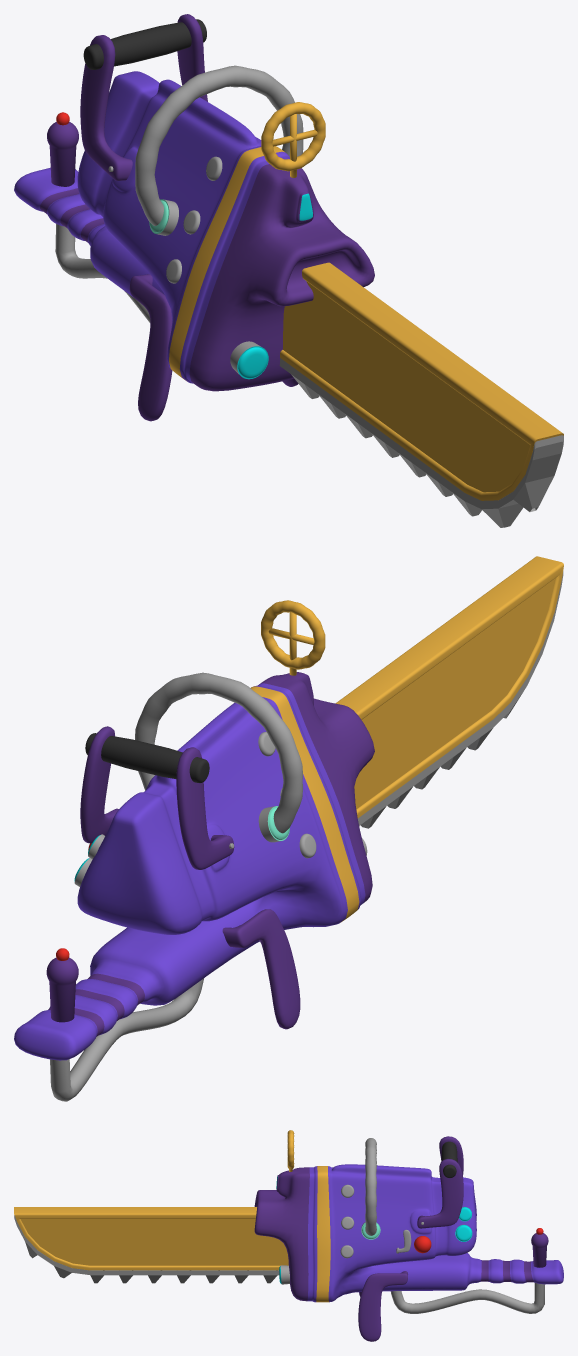
Rendered from testere_silahi.fbx.
3 renders of one model, top to bottom at view 1: azimuth 30°, elevation 25°; view 2: azimuth 150°, elevation 25°; view 3: azimuth 270°, elevation 25°, orthographic. The views are drawn at different scales.
Parts seen in each view (by area): view 1: govde, Cube.014, Cube.016, Cube.015, Circle, Cube.017, Circle.001, Sphere, BezierCurve, Cylinder.021, Cylinder.014, Cylinder.010; view 2: govde, Cube.014, Cube.016, Circle, BezierCurve, Cube.017, Circle.001, Cube.015, Sphere, Cylinder.014; view 3: govde, Cube.014, Cube.016, Cube.015, BezierCurve, Cube.017, Circle, Sphere, Sphere.001, Cylinder.014, Cylinder.017, Circle.001.
Part boxes in pixels (box(x1,y1,x2,y2)): govde: box(14, 71, 374, 391); Cube.014: box(280, 262, 563, 500); Cube.016: box(80, 14, 207, 180); Cube.015: box(279, 358, 563, 527); Circle: box(135, 65, 303, 225); Cube.017: box(129, 274, 298, 421); Circle.001: box(261, 102, 325, 177); Sphere: box(47, 112, 78, 186); BezierCurve: box(55, 224, 150, 322); Cylinder.021: box(230, 341, 268, 379); Cylinder.014: box(166, 156, 222, 283); Cylinder.010: box(149, 199, 178, 235); govde: box(14, 672, 374, 1060); Cube.014: box(335, 556, 563, 818); Cube.016: box(80, 726, 234, 869); Circle: box(135, 672, 302, 833); BezierCurve: box(50, 978, 203, 1101); Cube.017: box(222, 909, 300, 1029); Circle.001: box(261, 600, 325, 675); Cube.015: box(358, 571, 563, 828); Sphere: box(46, 948, 78, 1022); Cylinder.014: box(258, 732, 316, 858); govde: box(254, 1164, 563, 1302); Cube.014: box(14, 1207, 288, 1270); Cube.016: box(417, 1136, 463, 1228); Cube.015: box(14, 1215, 279, 1283); BezierCurve: box(390, 1282, 545, 1313); Cube.017: box(358, 1271, 407, 1341); Circle: box(365, 1138, 376, 1235); Sphere: box(531, 1228, 548, 1267); Sphere.001: box(396, 1229, 431, 1253); Cylinder.014: box(340, 1184, 354, 1258); Cylinder.017: box(455, 1207, 472, 1241); Circle.001: box(287, 1130, 294, 1171).
Bounding box in the file's own units: 184 × 346 × 902.
